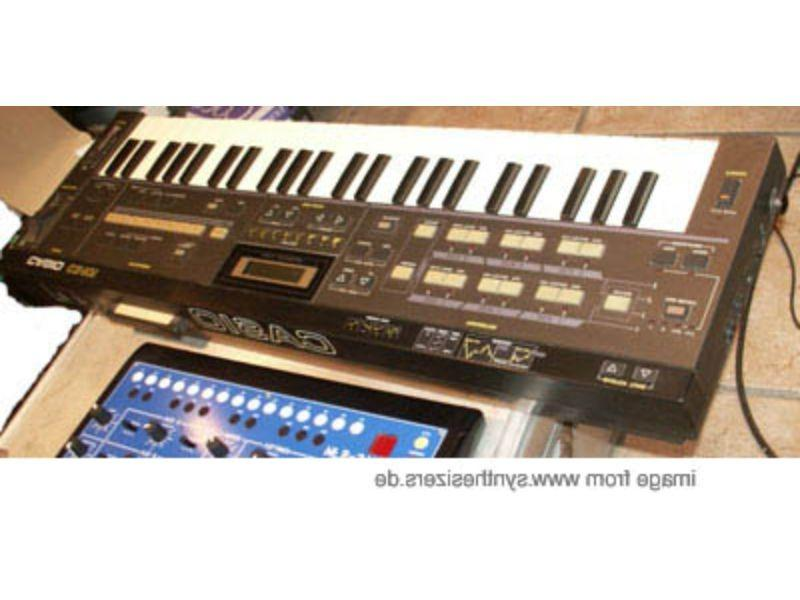synthesizer: (29, 114, 777, 379)
